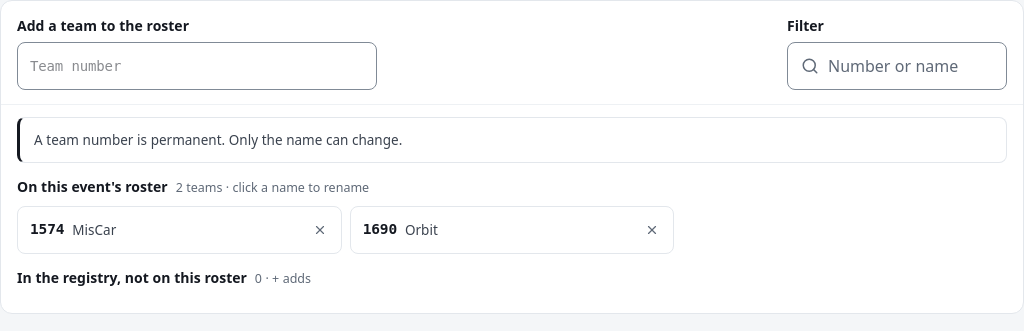
RosterPanel › Escape keeps the old name and sends nothing
Click the button "Orbit" at (517,230), box 405,206 -> 629,254
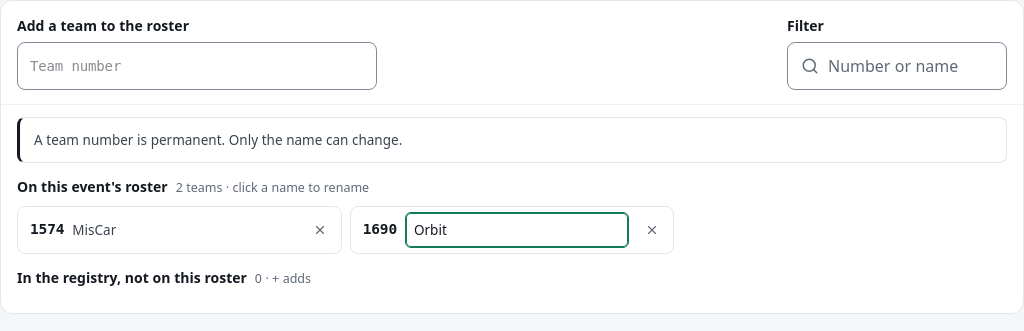
Type "xyz" into the field named "Team name" at (517,230), box 405,212 -> 629,248
Then press Escape
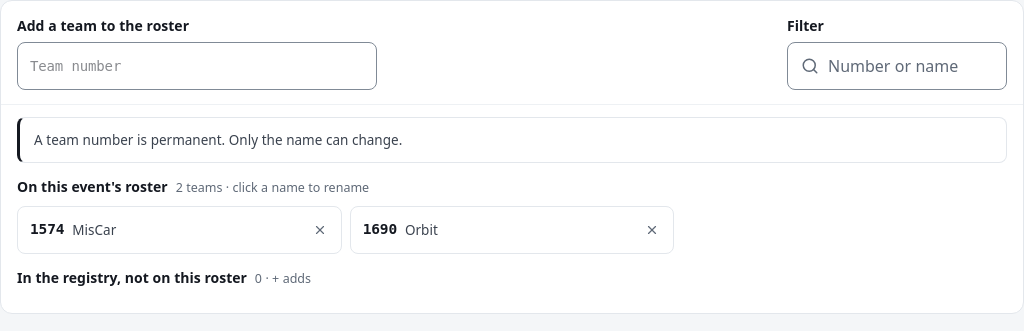
Expected: the button "Orbit" is shown, 405,206 -> 629,254
